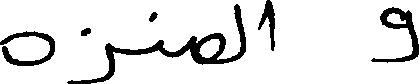X: (374, 2, 418, 67), (68, 23, 110, 83), (0, 26, 52, 70), (195, 28, 223, 69), (151, 7, 162, 58), (236, 0, 244, 64), (265, 0, 273, 55)
